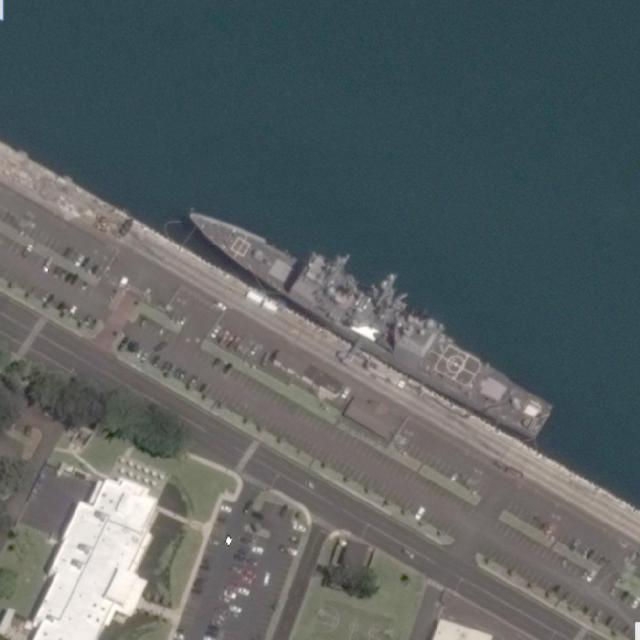Cruiser: (178, 195, 552, 444)
